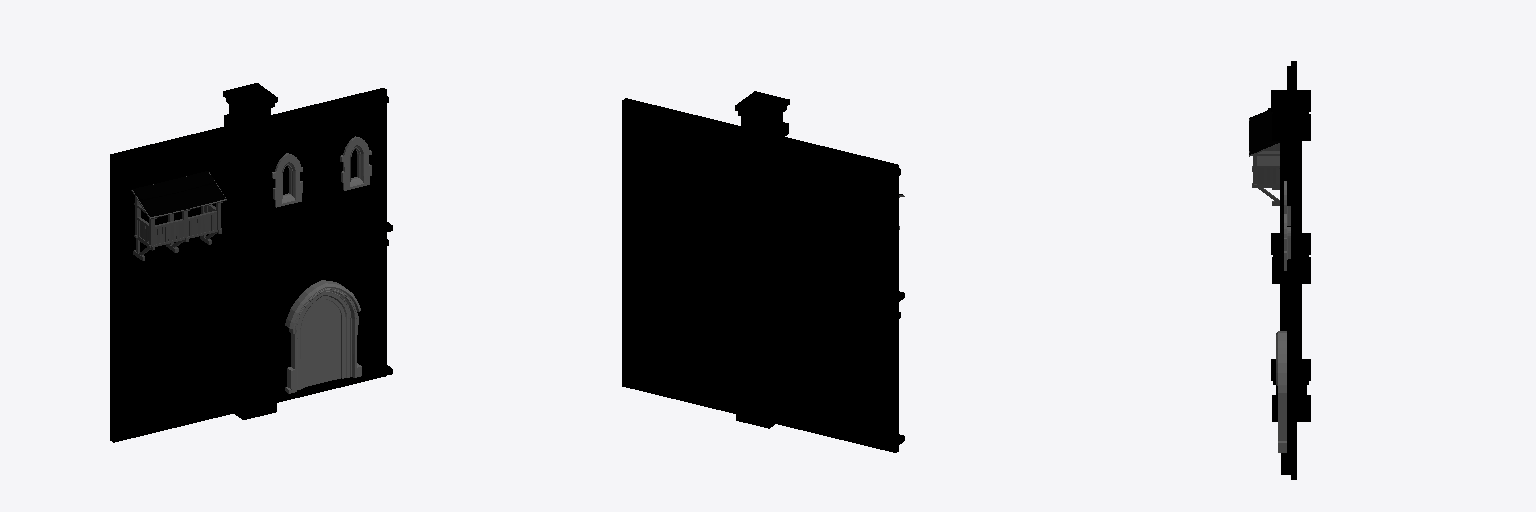
3 views of the same model, side by side, from view 1: azimuth 30°, elevation 25°; view 2: azimuth 150°, elevation 25°; view 3: azimuth 270°, elevation 25° (orthographic).
Visible parts, largest first — view 1: object_2, object_4, object_1, object_6, Plane.017, Cube.049_Cube.075, object_13, Plane.007, object_22, object_25, object_23, object_3 (+9 smaller); view 2: object_1, object_2, object_4, object_6, object_13, object_22, object_12, object_20, object_9; view 3: Cube.049_Cube.075, object_4, Plane.017, object_13, object_12, object_6, object_3, object_22, object_9.
Boxes of the visible parts, box(x1,y1,x2,y2) form: object_2: box(110, 270, 240, 442); object_4: box(265, 88, 386, 260); object_1: box(110, 125, 240, 299); object_6: box(265, 233, 386, 402); Plane.017: box(285, 280, 361, 393); Cube.049_Cube.075: box(131, 171, 226, 260); object_13: box(241, 135, 264, 243); Plane.007: box(272, 136, 371, 207); object_22: box(241, 278, 264, 368); object_25: box(114, 258, 241, 297); object_23: box(114, 401, 241, 440); object_3: box(271, 222, 392, 260); object_1: box(768, 136, 898, 309); object_2: box(768, 281, 898, 452); object_4: box(622, 98, 747, 270); object_6: box(622, 243, 747, 413); object_13: box(748, 143, 767, 251); object_22: box(748, 286, 767, 376); object_12: box(735, 91, 789, 118); object_20: box(741, 385, 772, 415); object_9: box(736, 122, 788, 147); Cube.049_Cube.075: box(1249, 108, 1279, 205); object_4: box(1291, 135, 1296, 336); Plane.017: box(1276, 331, 1286, 452); object_13: box(1280, 141, 1301, 245); object_12: box(1271, 90, 1310, 111); object_6: box(1291, 337, 1296, 479); object_3: box(1281, 265, 1290, 330); object_22: box(1280, 284, 1301, 371); object_9: box(1272, 114, 1310, 140).
Size of the model in its own units: 20 by 22.01 by 3.98.